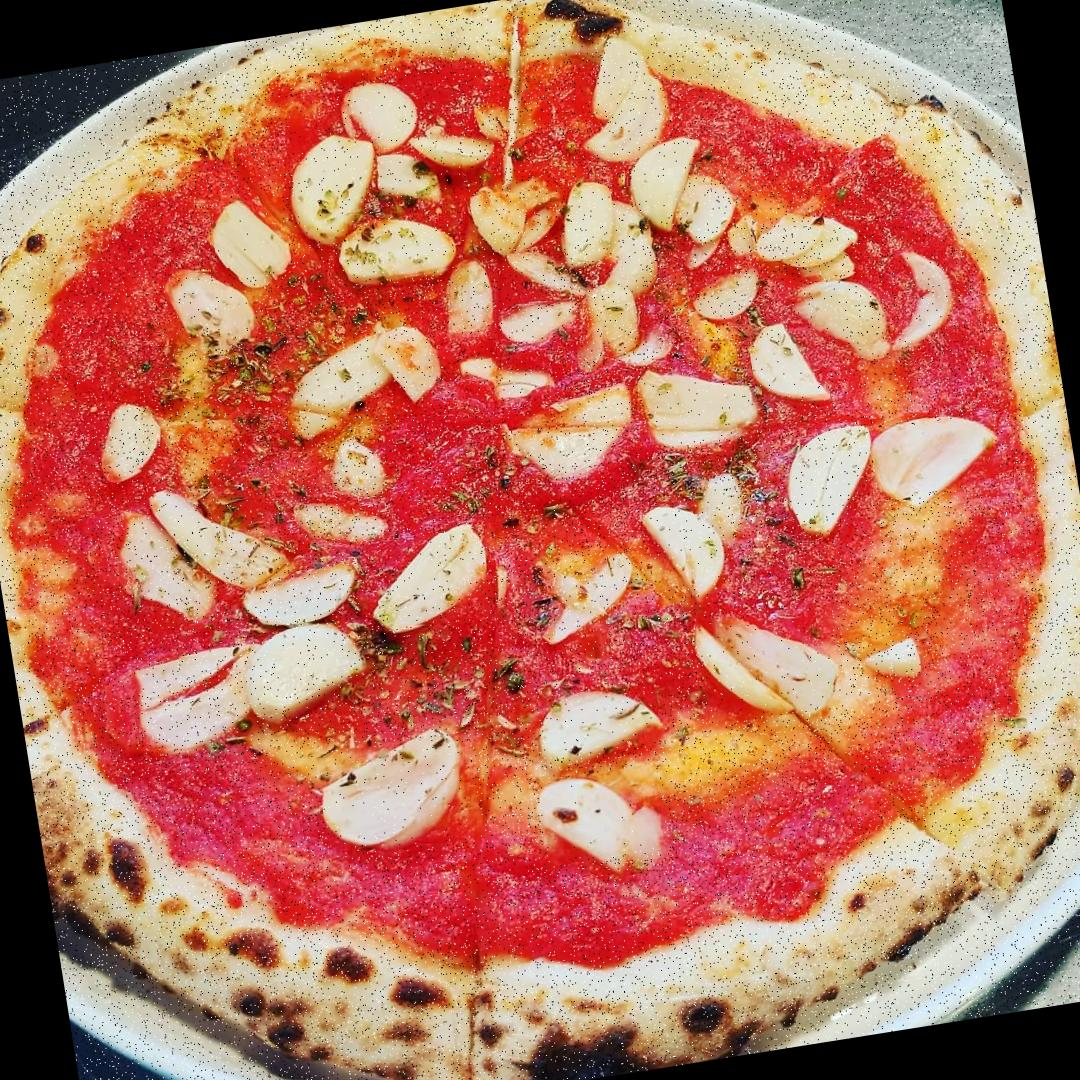Chicken: (281, 72, 479, 291), (118, 479, 292, 623), (314, 731, 482, 858), (694, 602, 846, 724), (558, 175, 657, 353), (277, 326, 443, 428), (128, 643, 262, 758), (437, 250, 571, 352), (538, 763, 670, 866), (526, 551, 650, 653), (245, 619, 374, 715), (574, 28, 669, 158), (370, 528, 488, 632), (868, 412, 1002, 499), (640, 356, 762, 447), (536, 678, 674, 758), (793, 271, 894, 374), (509, 390, 635, 472), (295, 438, 388, 549), (782, 427, 878, 532), (621, 135, 710, 239), (242, 561, 369, 633), (162, 264, 260, 353), (753, 204, 859, 286), (469, 176, 566, 264), (642, 497, 728, 593), (891, 240, 964, 346), (746, 319, 830, 408), (208, 196, 292, 280), (683, 260, 775, 336), (462, 349, 554, 410), (95, 403, 164, 476)
Pizza: (0, 0, 1080, 1080)
